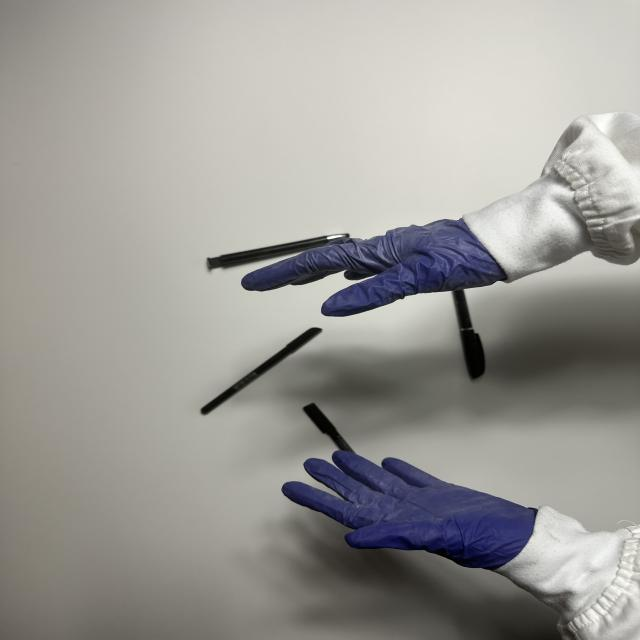gloves_contaminated: (282, 451, 537, 570), (242, 218, 506, 316)
